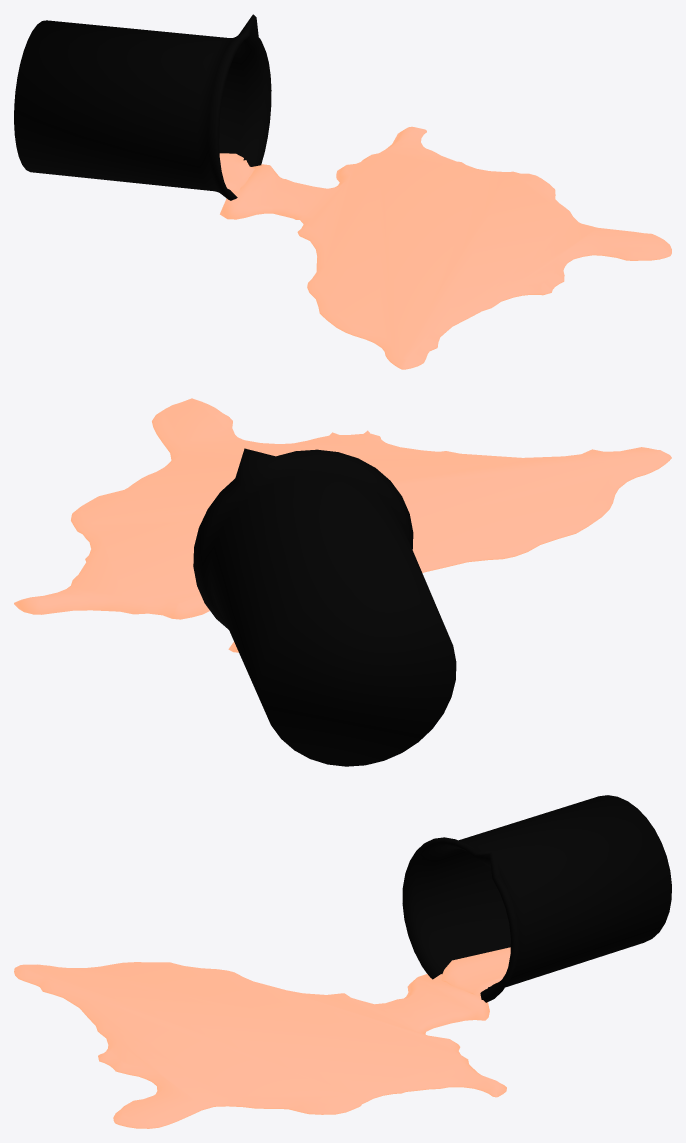
3 views of the same model, one above another, from view 1: azimuth 30°, elevation 25°; view 2: azimuth 150°, elevation 25°; view 3: azimuth 270°, elevation 25° (orthographic). The views are drawn at different scales.
Parts seen in each view (by area): view 1: Plane, Cylinder.009, Cylinder.012; view 2: Cylinder.009, Plane; view 3: Plane, Cylinder.009, Cylinder.012.
Boxes of the visible parts, left/top/right/bottom form: Plane: left=220, top=126, right=671, bottom=369; Cylinder.009: left=14, top=14, right=271, bottom=200; Cylinder.012: left=219, top=153, right=254, bottom=191; Cylinder.009: left=193, top=448, right=456, bottom=766; Plane: left=14, top=398, right=671, bottom=652; Plane: left=14, top=962, right=506, bottom=1128; Cylinder.009: left=402, top=795, right=671, bottom=1002; Cylinder.012: left=441, top=947, right=510, bottom=995.
Size of the model in its own units: 1884 by 659 by 2430.
